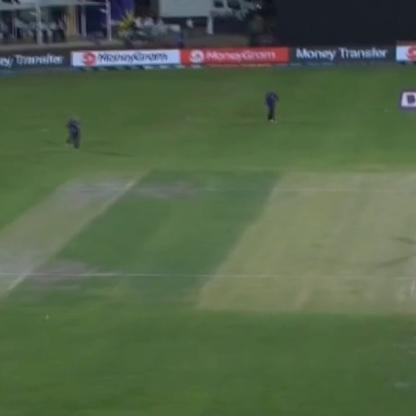ball: (42, 309, 56, 324)
